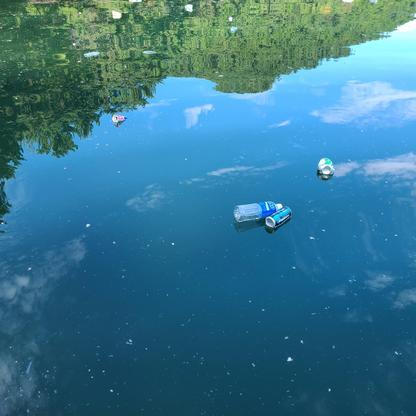can: (266, 206, 293, 228), (318, 155, 336, 177), (112, 113, 128, 123)
plastic bottle: (234, 200, 282, 222)
